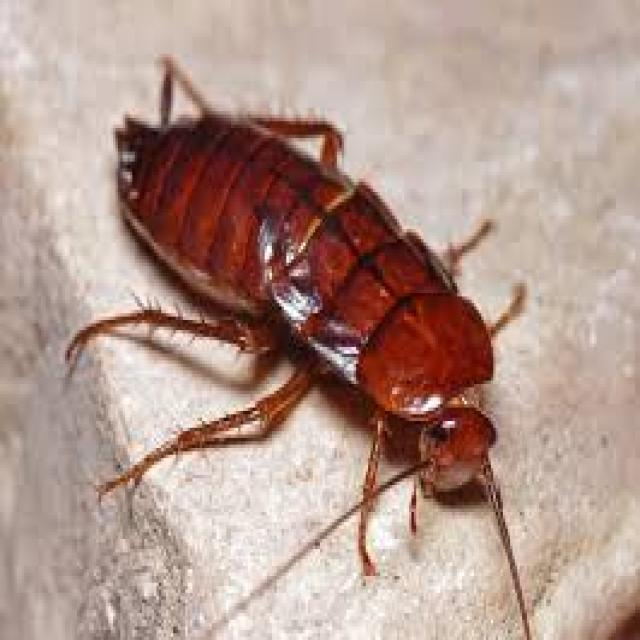Cockroach: (53, 40, 546, 603)
